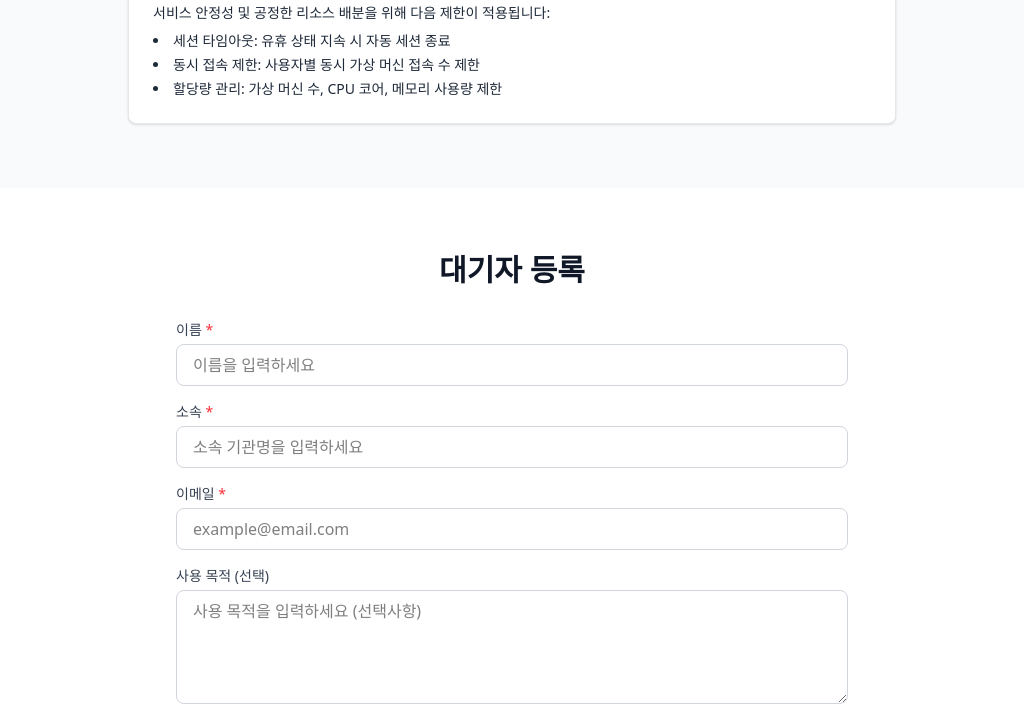
Test: Home Page › handles form submission error
(page scrolled)
Type "홍길동" into the field labelled "이름 *" at (512, 365), box [176,344,848,386]
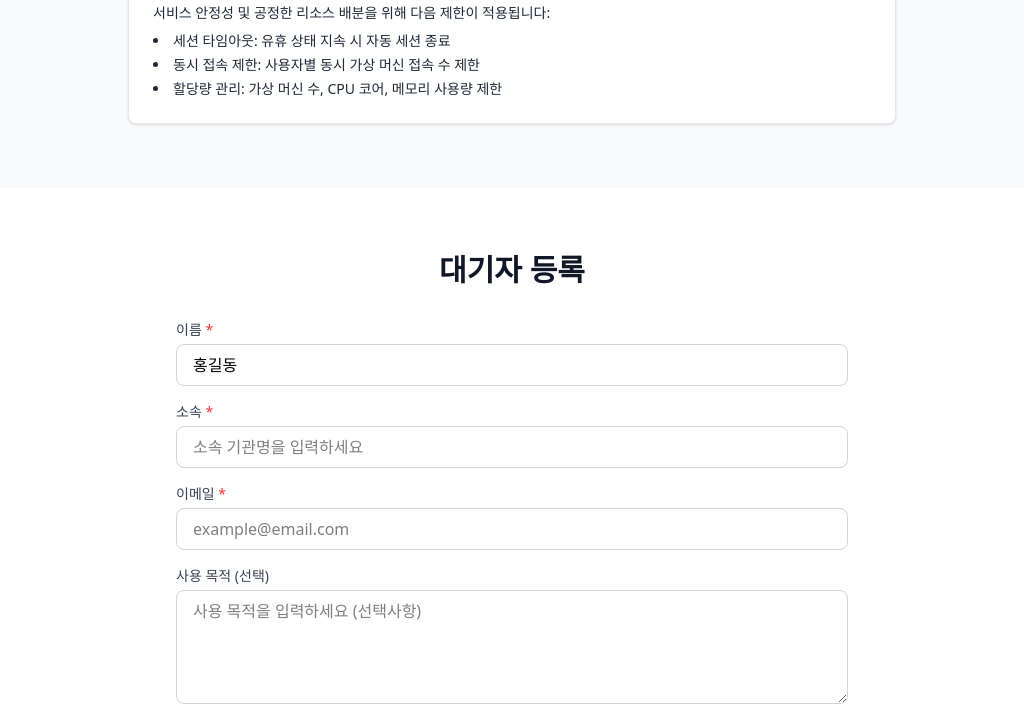
Type "test@example.com" into the field labelled "이메일 *" at (512, 529), box [176,508,848,550]
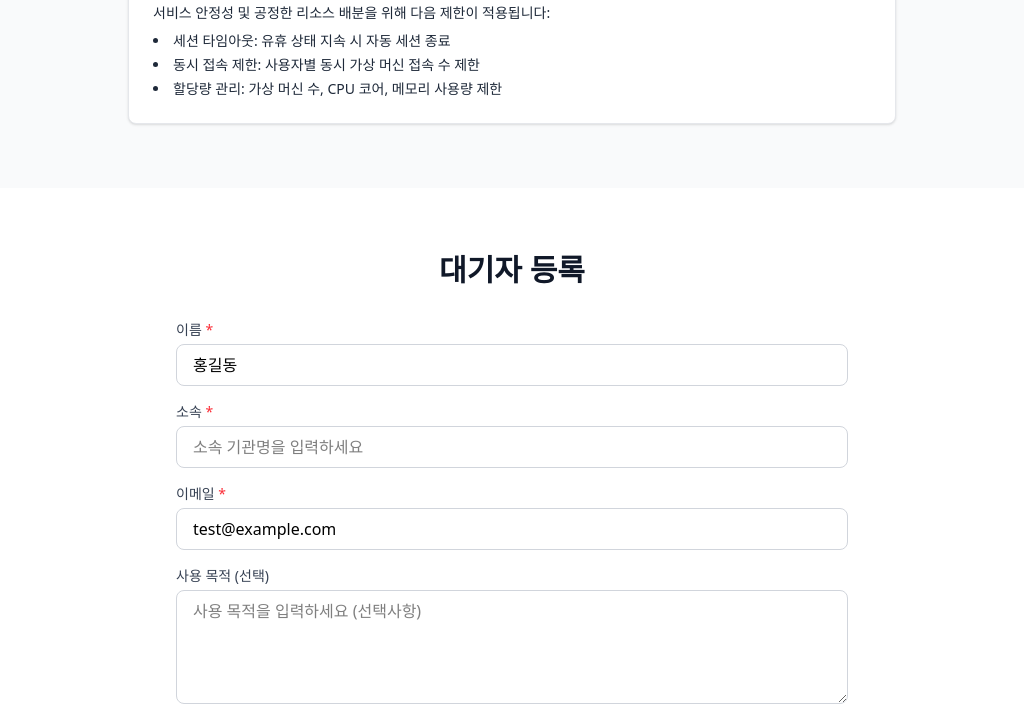
Type "테스트 조직" into the field labelled "소속 *" at (512, 447), box [176,426,848,468]
(page scrolled)
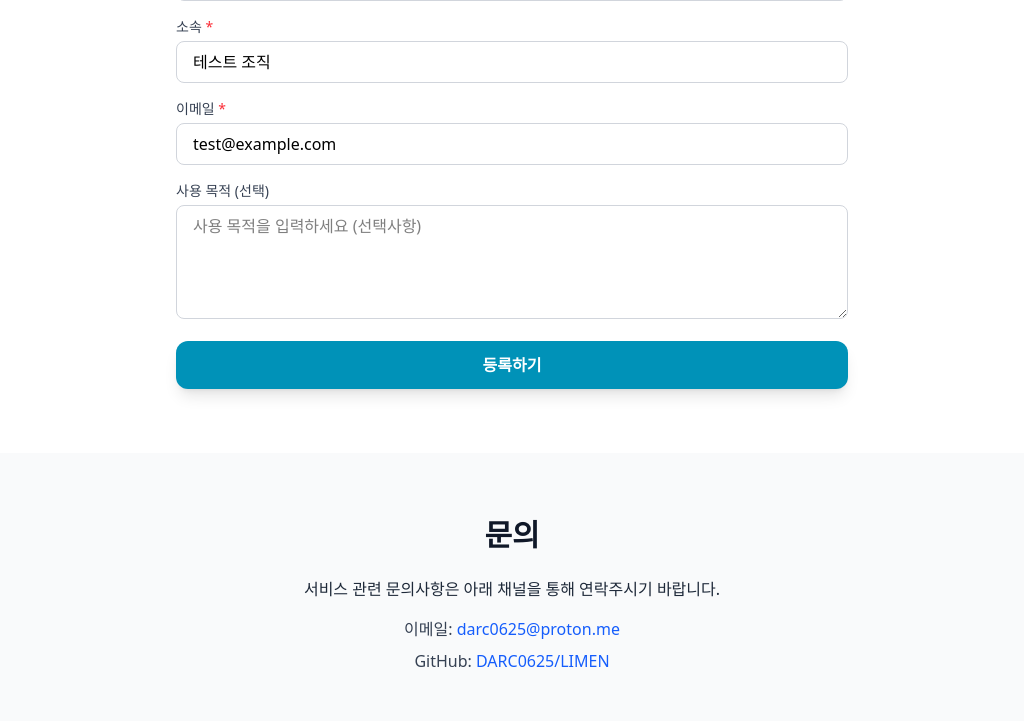
Click the button "등록하기" at (512, 365), box [176,341,848,389]
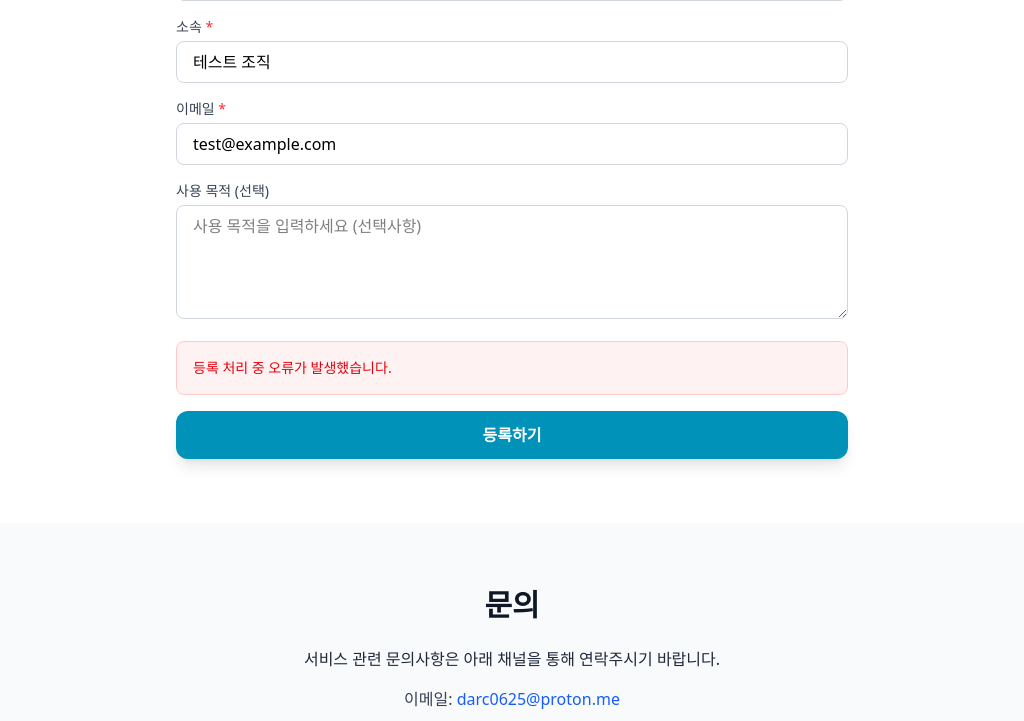
Check: the message "등록 처리 중 오류가 발생했습니다." is shown, box [176,341,848,395]
